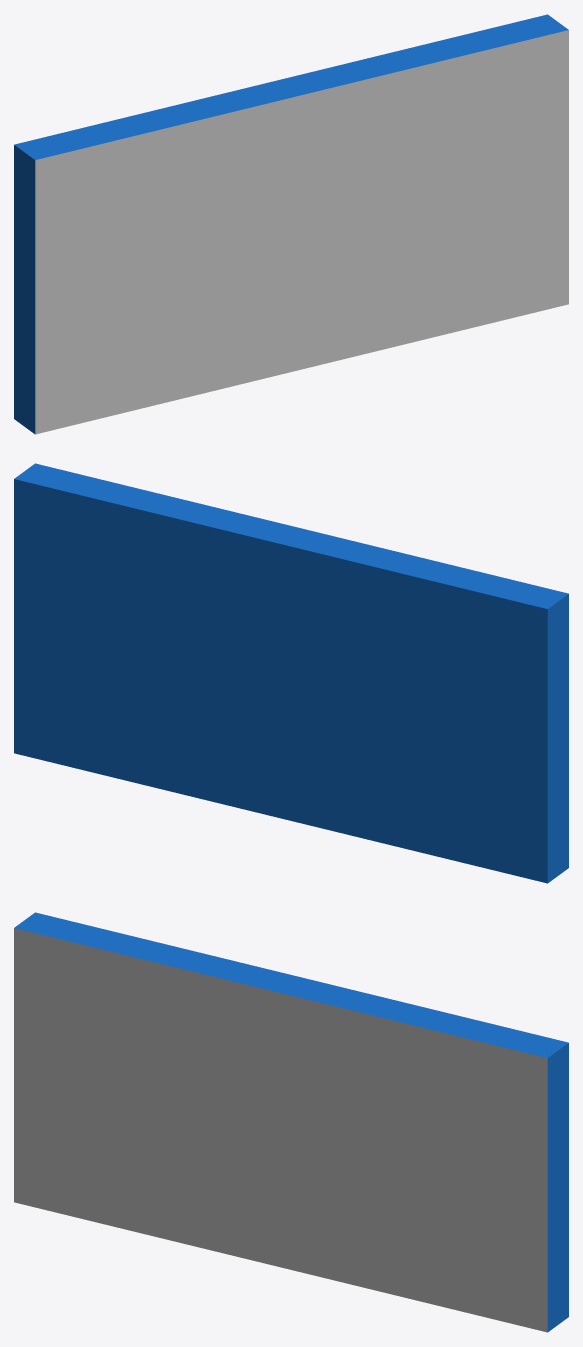
The model's file is SM_disabled_sign.fbx.
The picture shows the model from 3 angles, top to bottom: view 1: azimuth 30°, elevation 25°; view 2: azimuth 150°, elevation 25°; view 3: azimuth 330°, elevation 25°; orthographic projection.
Parts seen in each view (by area): view 1: Cube_36; view 2: Cube_36; view 3: Cube_36.
Boxes of the visible parts, box(x1,y1,x2,y2) form: Cube_36: box(14, 14, 568, 434); Cube_36: box(14, 463, 568, 883); Cube_36: box(14, 912, 568, 1332).
Size of the model in its own units: 43.52 by 21.38 by 3.
